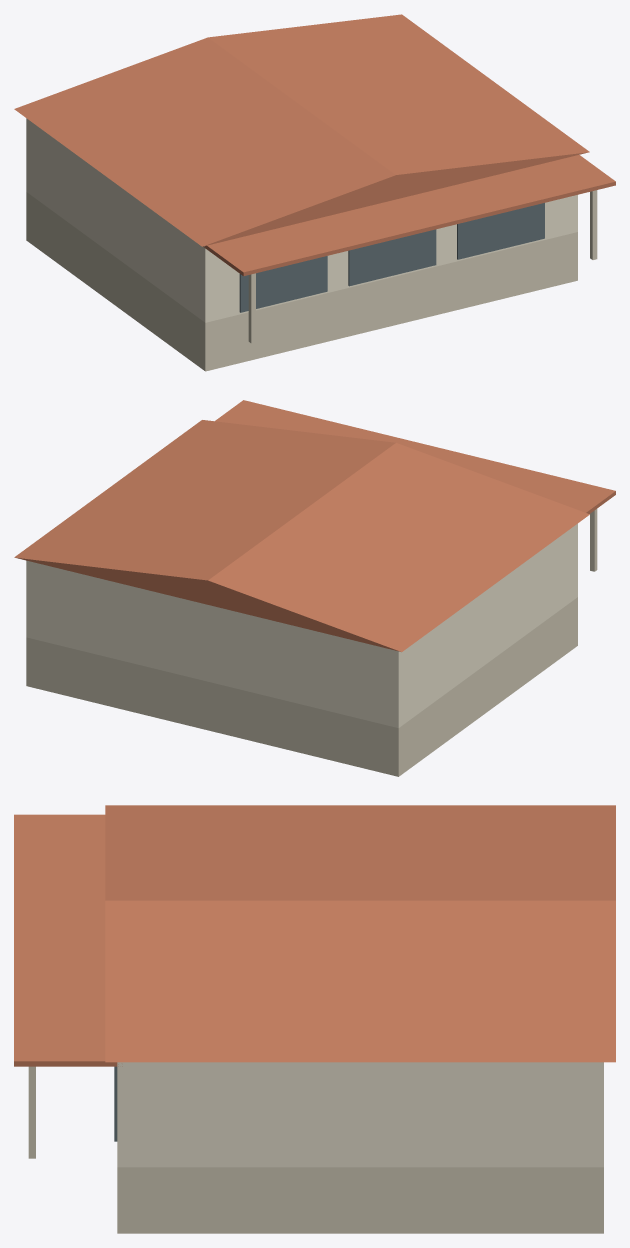
File: workshop-0.glb
3 views of the same model, one above another, from view 1: azimuth 30°, elevation 25°; view 2: azimuth 150°, elevation 25°; view 3: azimuth 270°, elevation 25° (orthographic). The views are drawn at different scales.
Size of the model in its own units: 25 by 9.5 by 24.75.
